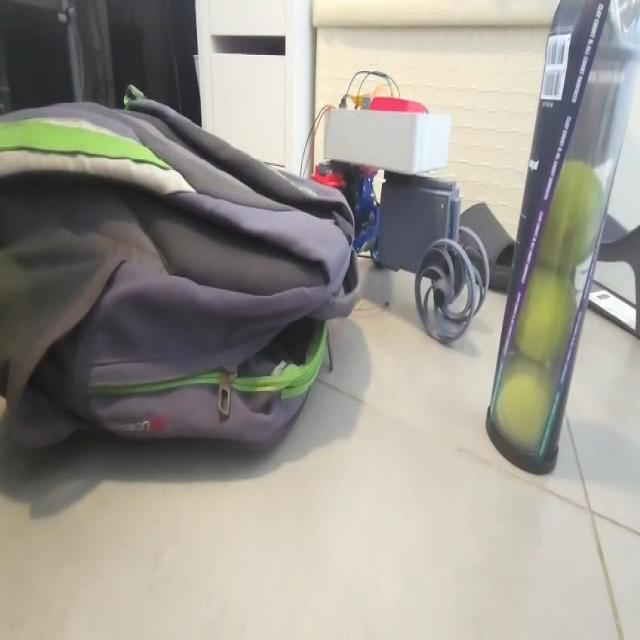Robot: (310, 91, 490, 346)
